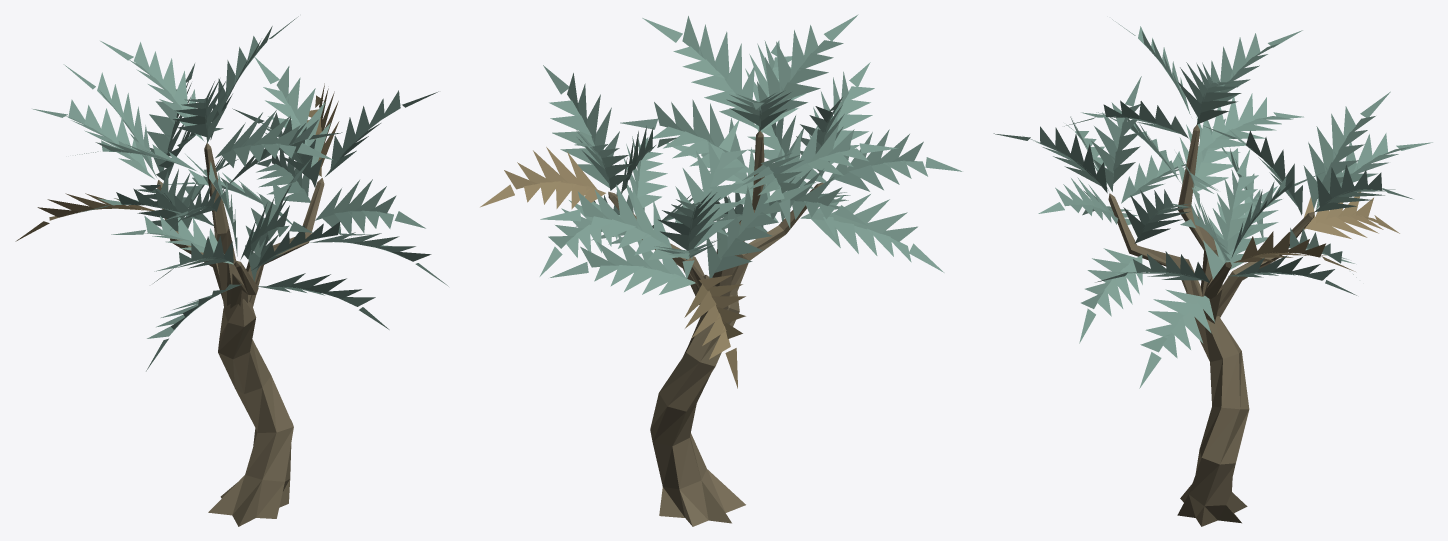
Rendered from toromiro-tree-a50794.glb.
3 views of the same model, side by side, from view 1: azimuth 30°, elevation 25°; view 2: azimuth 150°, elevation 25°; view 3: azimuth 270°, elevation 25° (orthographic). The views are drawn at different scales.
Parts seen in each view (by area): view 1: toromiro-tree-a50794; view 2: toromiro-tree-a50794; view 3: toromiro-tree-a50794.
Boxes of the visible parts, x1,y1,x2,y2 form: toromiro-tree-a50794: [15, 16, 448, 526]; toromiro-tree-a50794: [480, 14, 962, 526]; toromiro-tree-a50794: [993, 19, 1432, 526].
Bounding box in the file's own units: 2.29 × 2.97 × 2.59.
